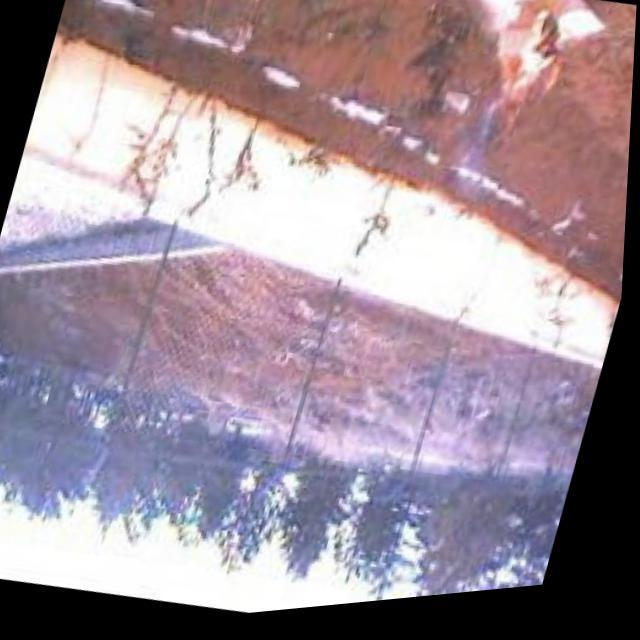fire: (466, 0, 582, 170)
